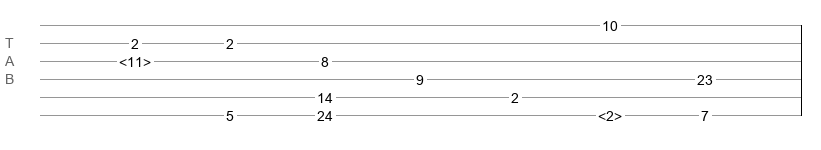10: (602, 18, 618, 28)
14: (317, 90, 333, 100)
2: (131, 36, 139, 46), (226, 36, 234, 46), (511, 90, 519, 100)
23: (697, 72, 713, 82)
24: (317, 108, 333, 118)
5: (226, 108, 234, 118)
7: (701, 108, 709, 118)
8: (321, 54, 329, 64)
9: (416, 72, 424, 82)
harmonic: (119, 54, 151, 64), (598, 108, 622, 118)
